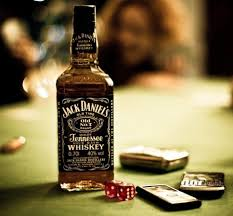Jack Daniel: (52, 2, 119, 196)
